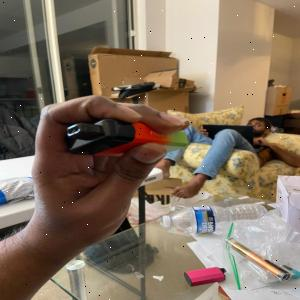Swift-E-Ciggirate: (58, 116, 192, 160)
